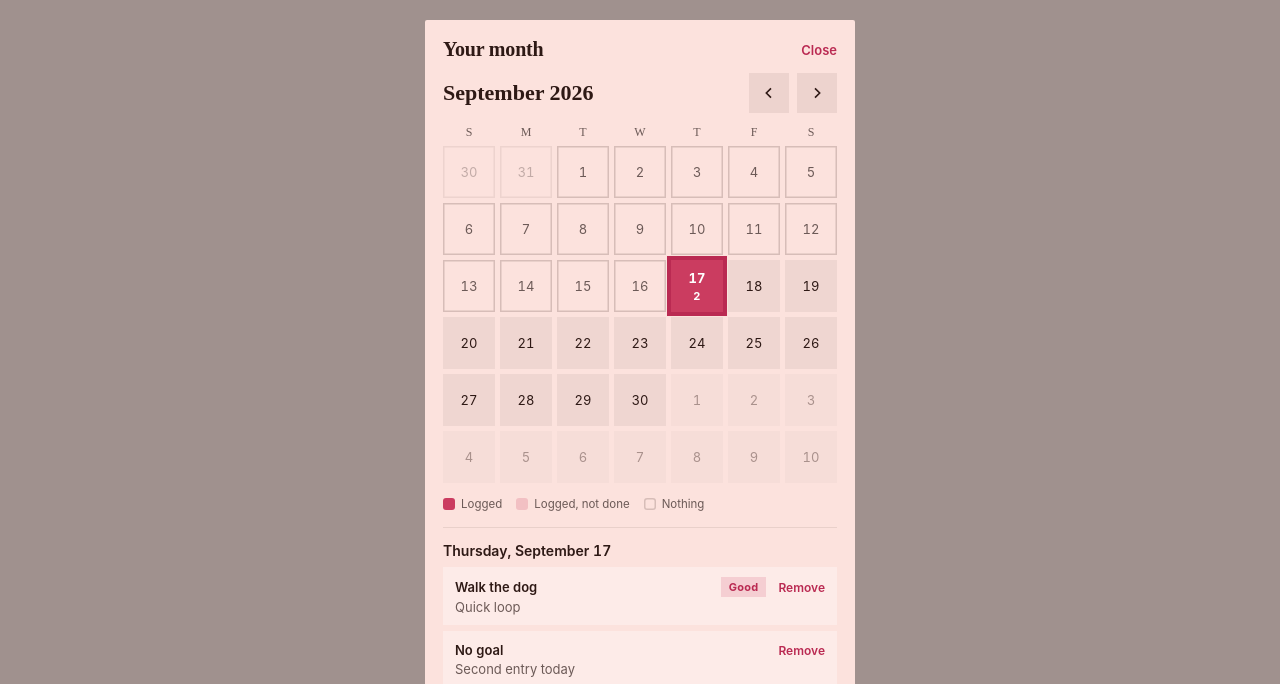
Test: CalendarModal removing an entry › removes an entry, holds its Undo in place, and puts it back
This screenshot has width=1280, height=684.
Expected: the text "Quick loop" is shown, top-left (455, 599), bottom-right (520, 615)
Click the button with aria-label "Remove Quick loop".
click(802, 587)  # box top-left (778, 565), bottom-right (825, 609)
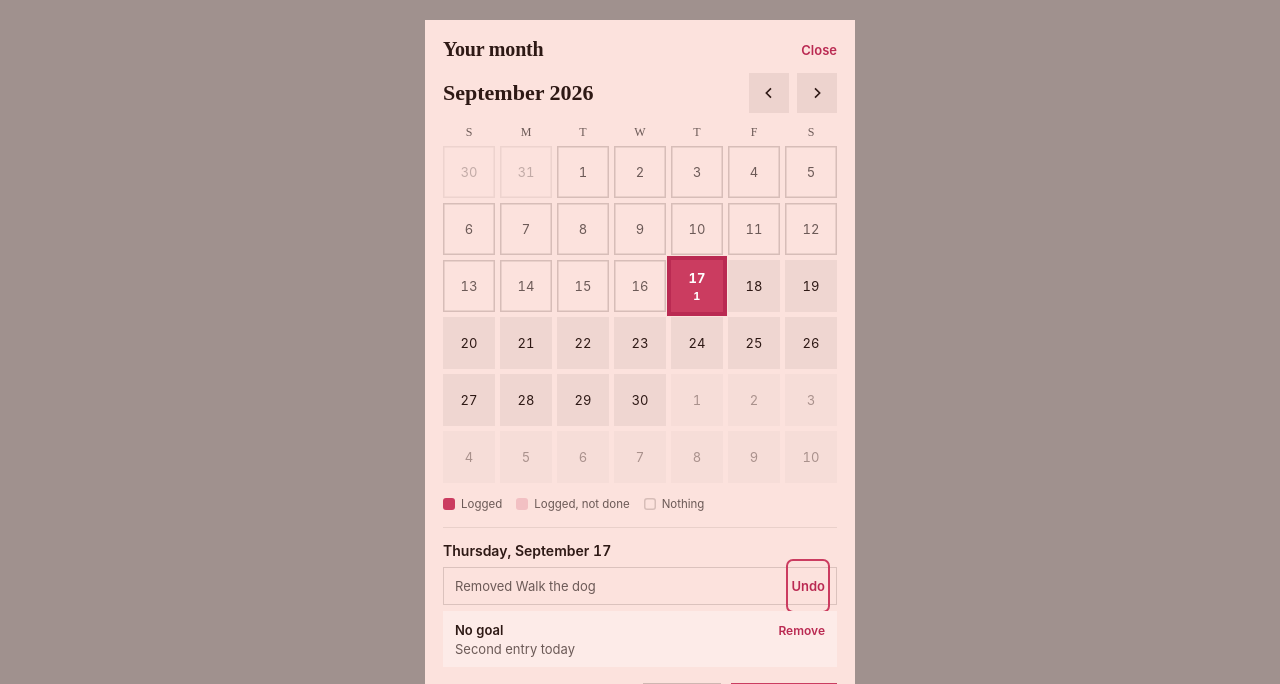
Result: the text "Quick loop" is gone
Result: the text "Removed Walk the dog" is shown at top-left (455, 578), bottom-right (596, 594)
Click the button with aria-label "Undo removing Walk the dog".
click(808, 586)  # box top-left (791, 564), bottom-right (825, 608)
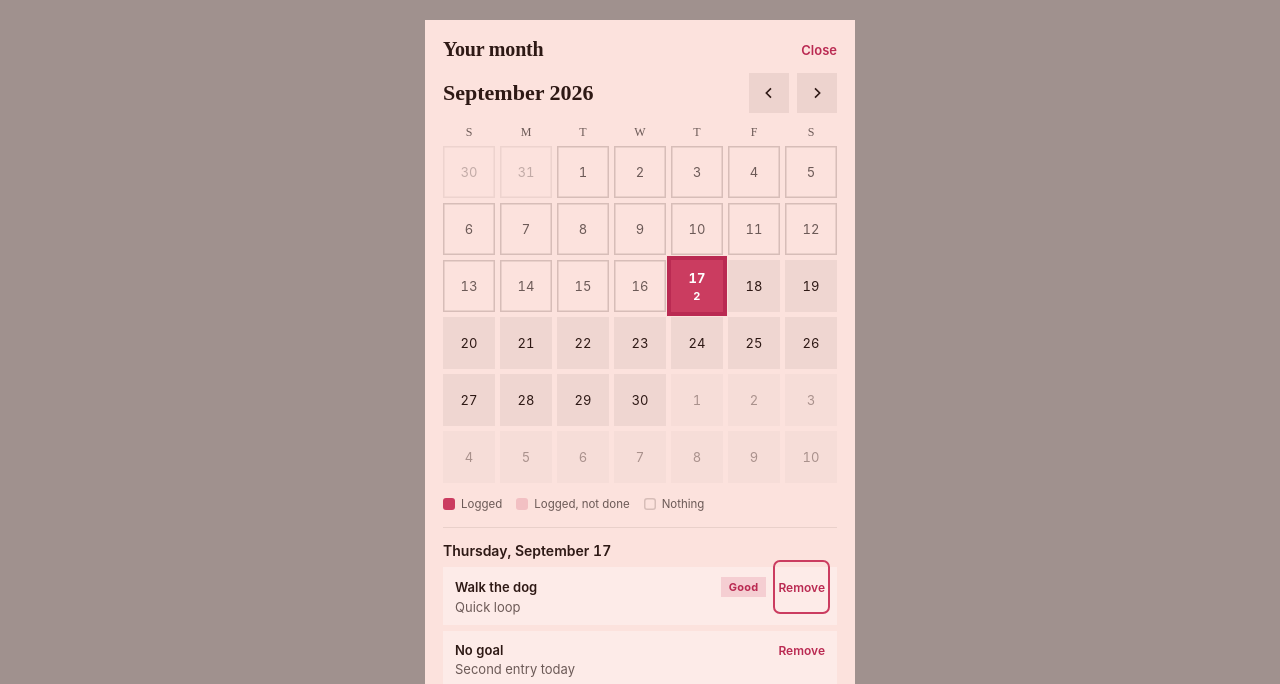
Result: the text "Quick loop" is shown at top-left (455, 599), bottom-right (520, 615)
